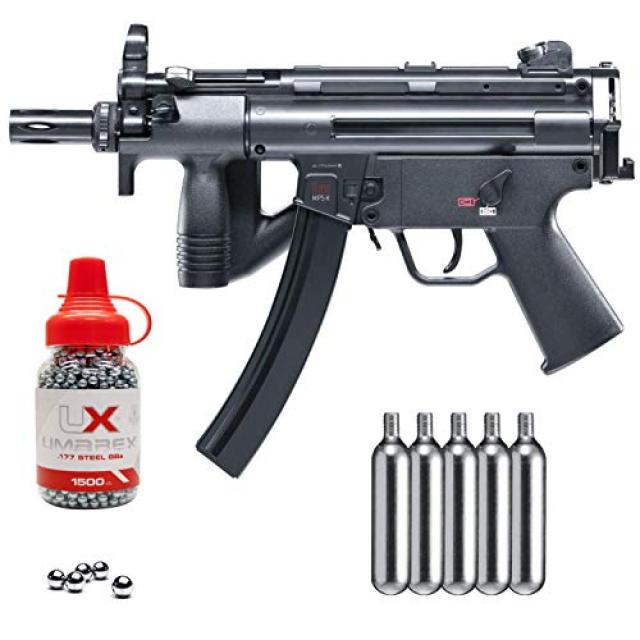SMG: (9, 24, 637, 481)
